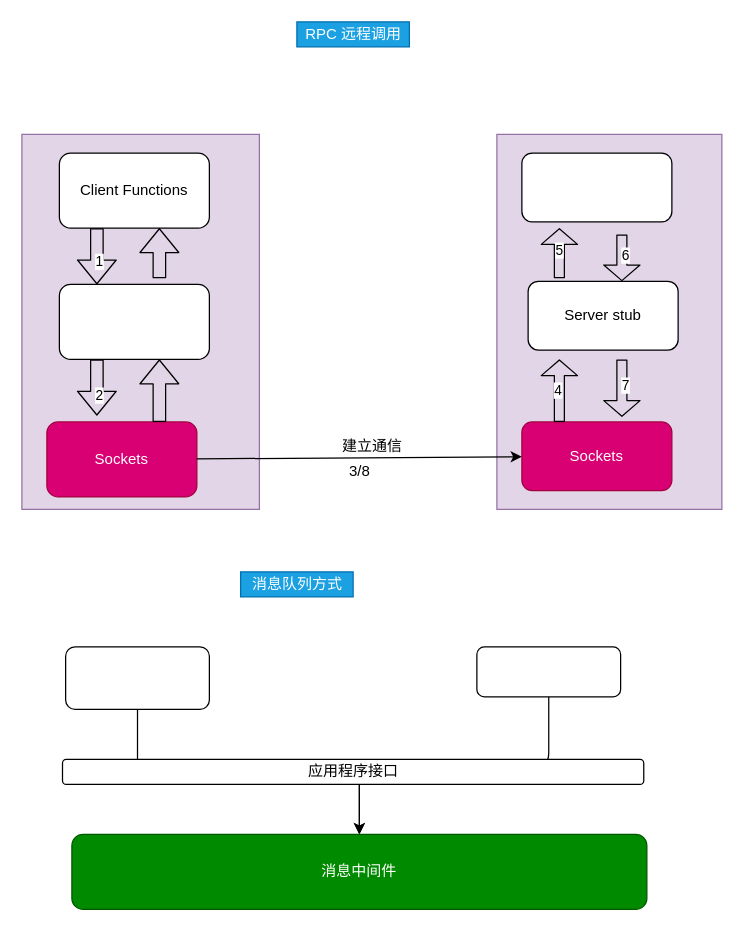
The diagram is 744 pixels wide and 931 high, and some of its shapes have lost their labels. Each missing label, with the centre of its shape:
Client stub: the point at 133,321
Server Functions: the point at 596,187
应用一: the point at 136,677
应用二: the point at 548,671
